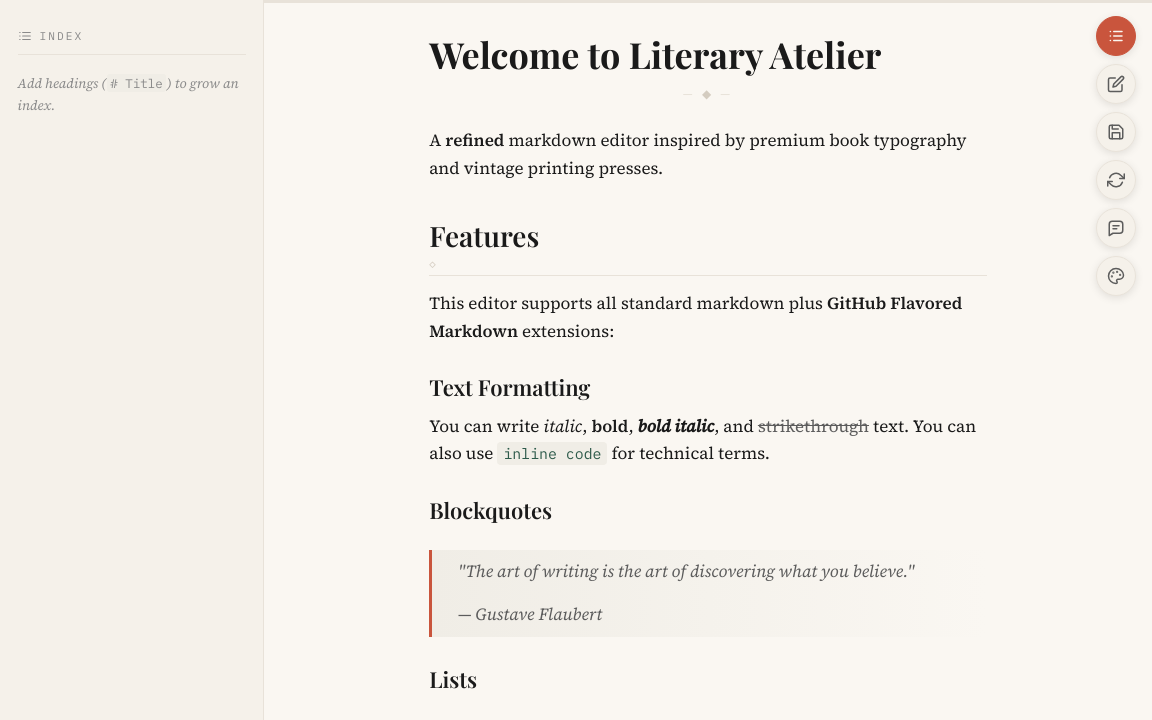
Test: App › closes the comments pane when review work is done
The width and height of the screenshot is (1152, 720).
What coordinates should you click on to do the following:
click the button named "show comments"
I would click on:
 (1116, 228)
Its box is [1096, 208, 1136, 248].
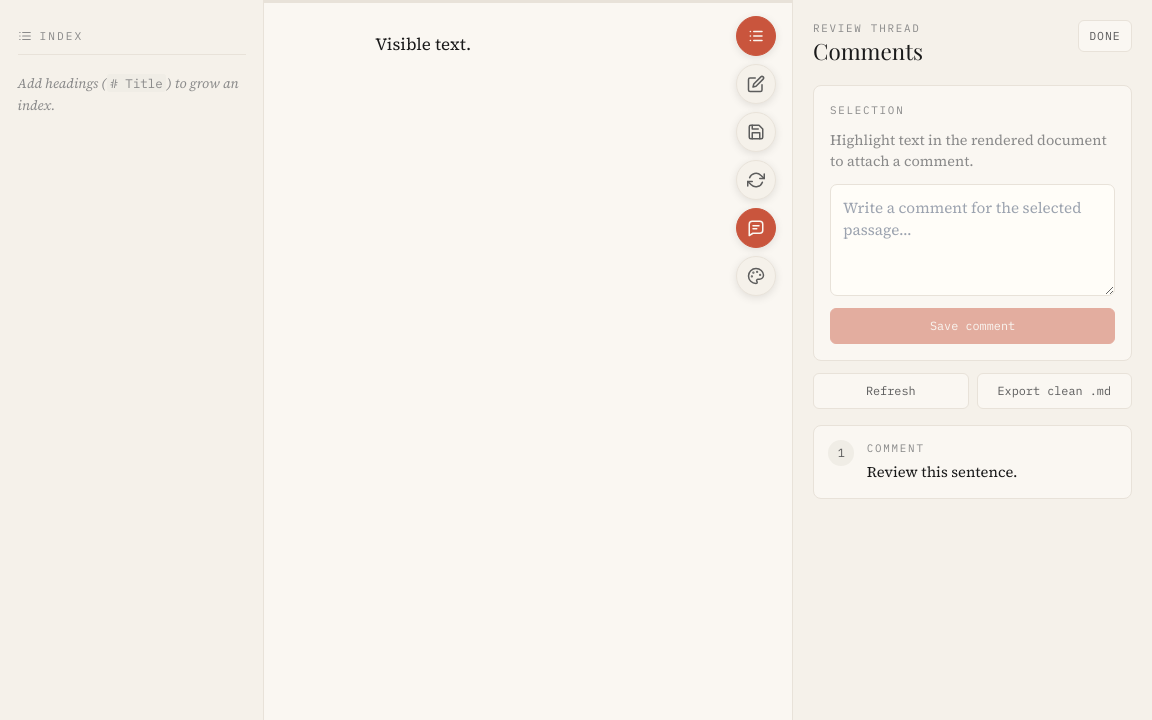
Result: the element "Comments" is shown at [792, 0, 1151, 719]
What coordinates should you click on to do the following:
click the button with aria-label "close comments"
I would click on:
 (1105, 36)
Its box is [1078, 20, 1132, 52].
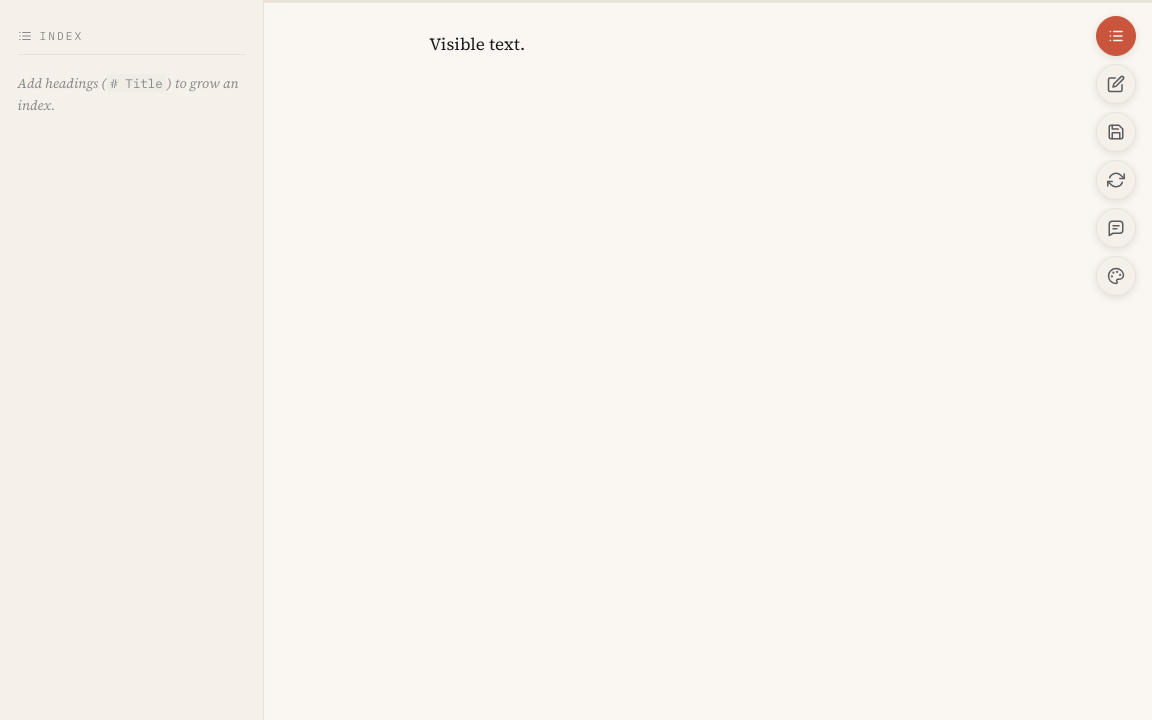
Result: the heading "Comments" is gone
